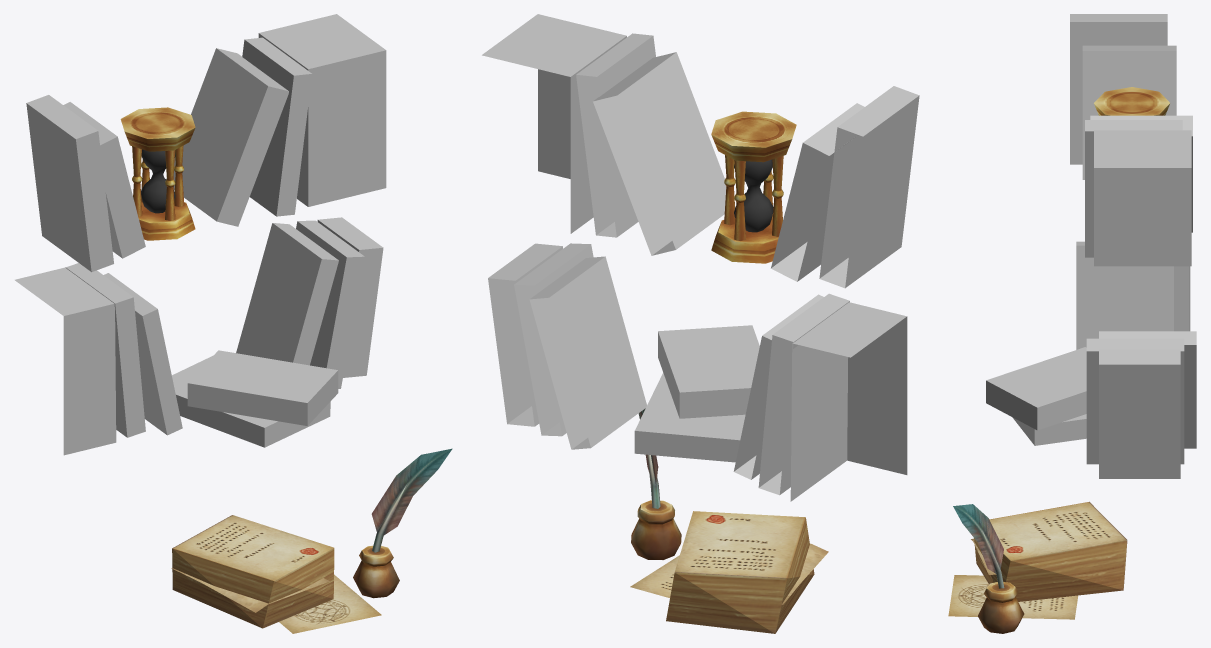
File: Cupboard_Preset_06.FBX
The picture shows the model from 3 angles, left to right: view 1: azimuth 30°, elevation 25°; view 2: azimuth 150°, elevation 25°; view 3: azimuth 270°, elevation 25°; orthographic projection. The views are drawn at different scales.
Parts seen in each view (by area): view 1: Cupboard_Preset_06; view 2: Cupboard_Preset_06; view 3: Cupboard_Preset_06.
Part boxes in pixels (<box>): Cupboard_Preset_06: <box>15,14,452,633</box>; Cupboard_Preset_06: <box>482,14,919,633</box>; Cupboard_Preset_06: <box>948,14,1196,633</box>.
Size of the model in its own units: 113 by 76.12 by 165.
